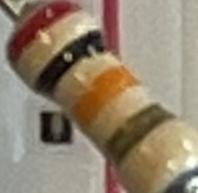Black: (22, 24, 113, 99)
Orange: (65, 61, 148, 137)
Red: (4, 1, 88, 72)
Side-Gold: (101, 98, 180, 170)
